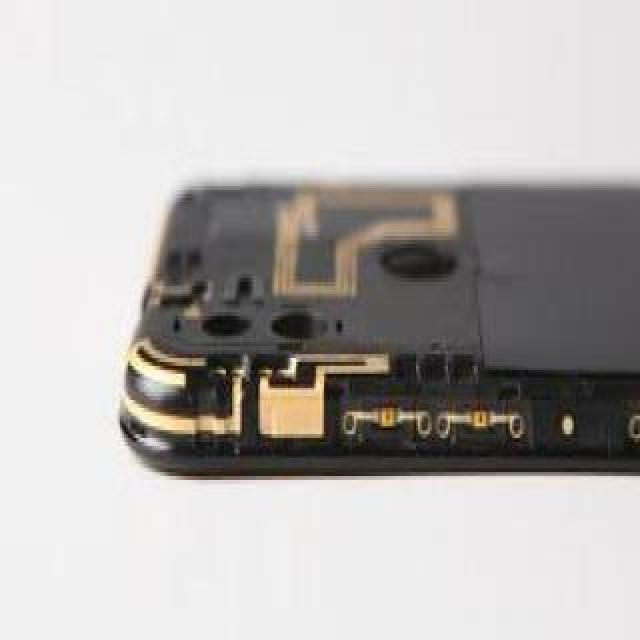smart phone: (115, 115, 640, 550)
